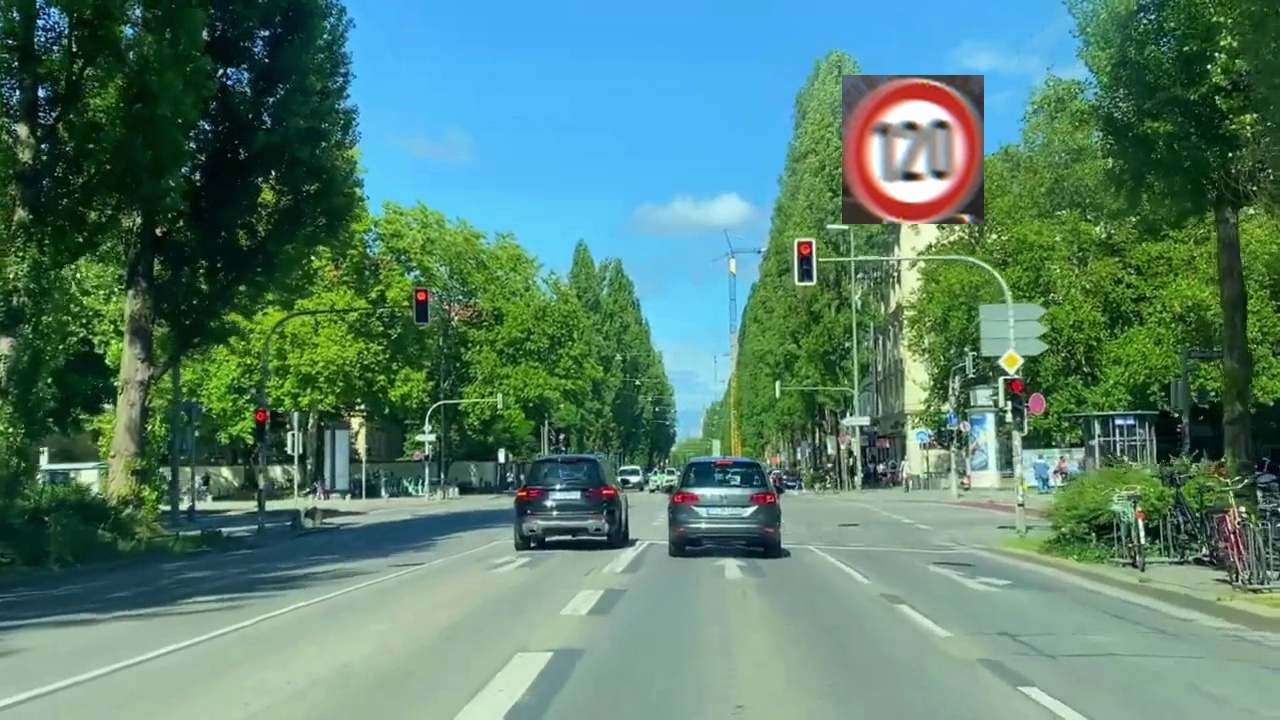Speed 120: (842, 75, 984, 224)
